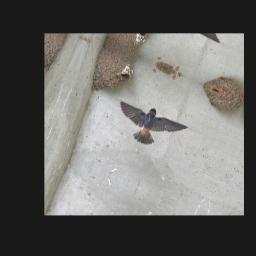Swallow: (109, 93, 192, 160)
